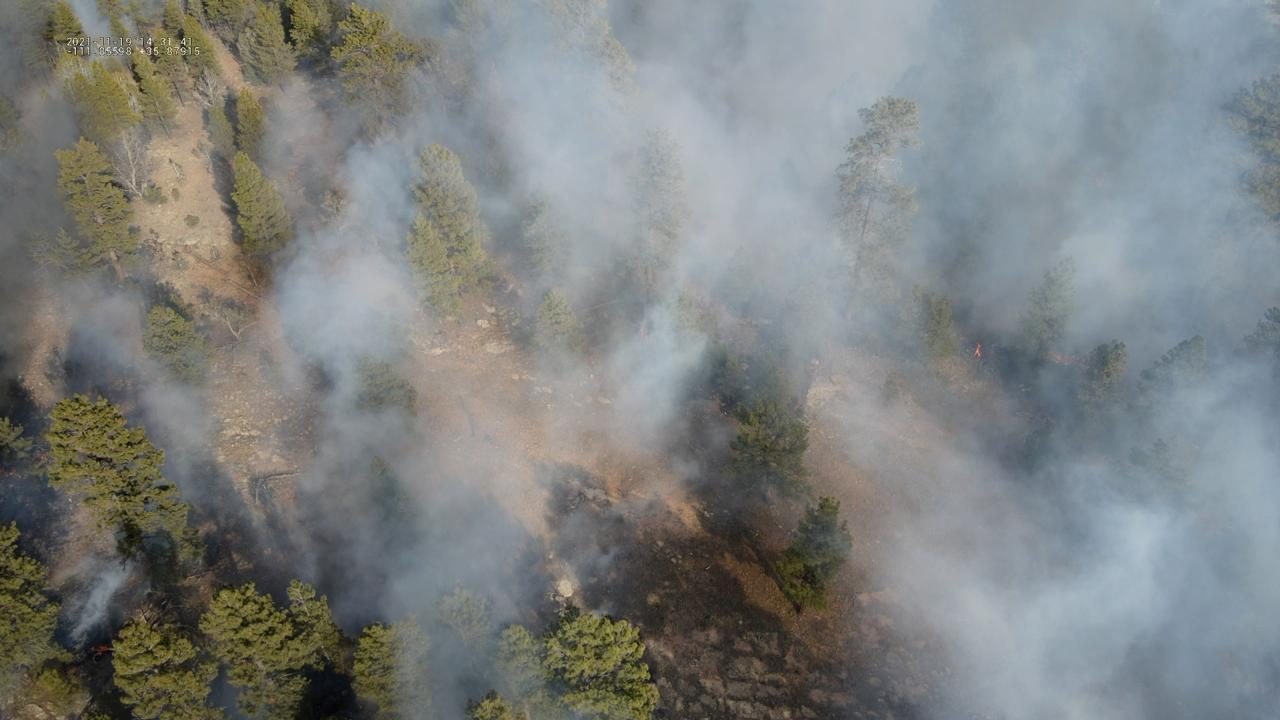fire: (1043, 347, 1075, 369), (971, 341, 983, 359)
smoke: (0, 0, 1280, 720)
